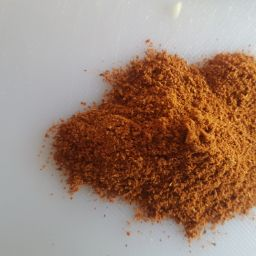Garam masala: (24, 72, 256, 248), (92, 28, 256, 245), (123, 37, 256, 243), (118, 87, 246, 197), (60, 92, 169, 216)
